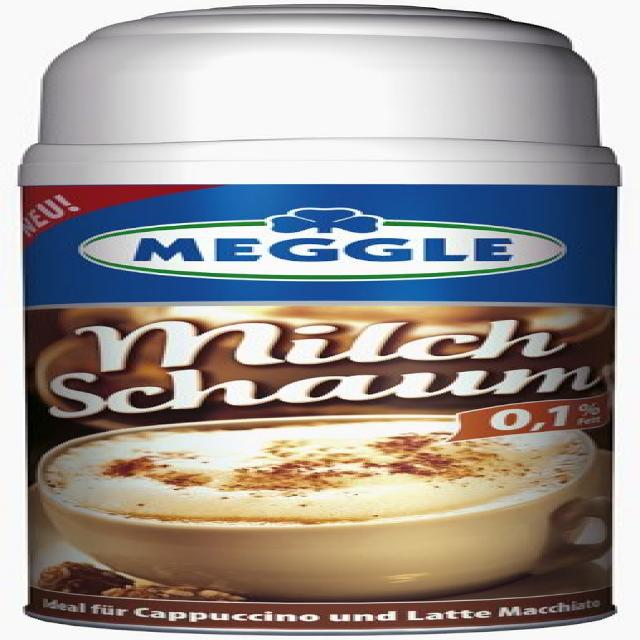Cream: (18, 3, 617, 635)
